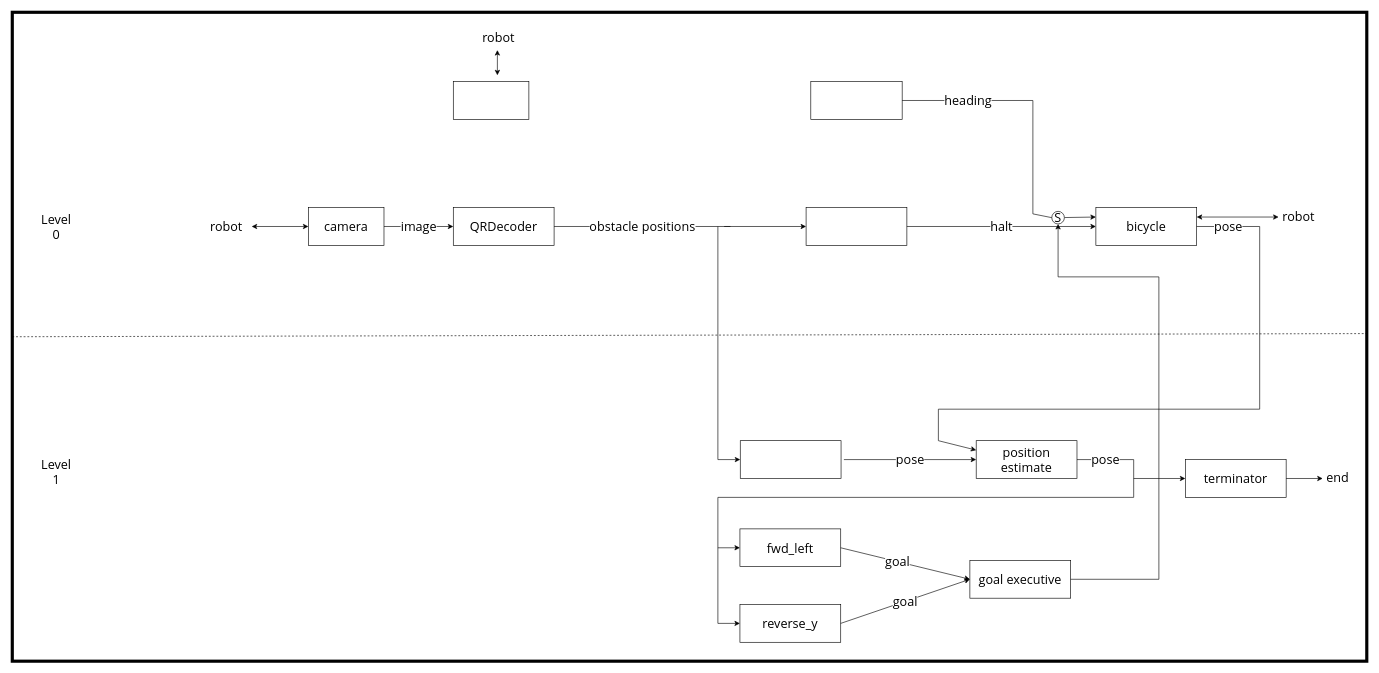
Image size: 1379x673. Some labels were removed from this diagram. Each missing label, with the centre of its shape:
collide: point 856,226
localizer: point 790,459
move_around: point 856,100
vacuum: point 491,100
